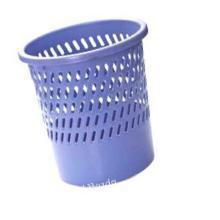Bote de Basura: (16, 17, 156, 188)
